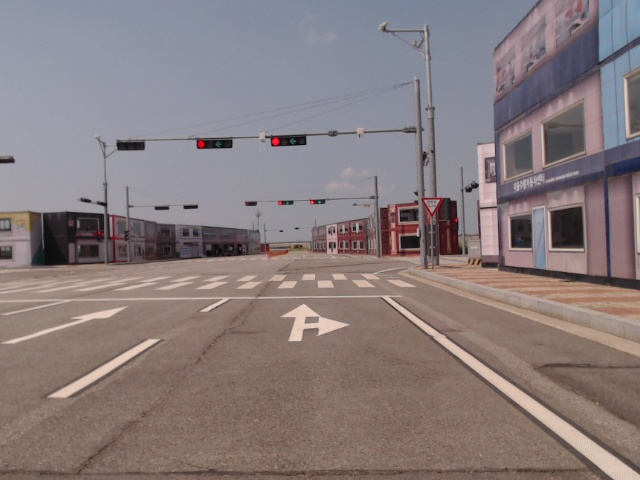left_green_4: (271, 137, 306, 147), (197, 140, 232, 148)
